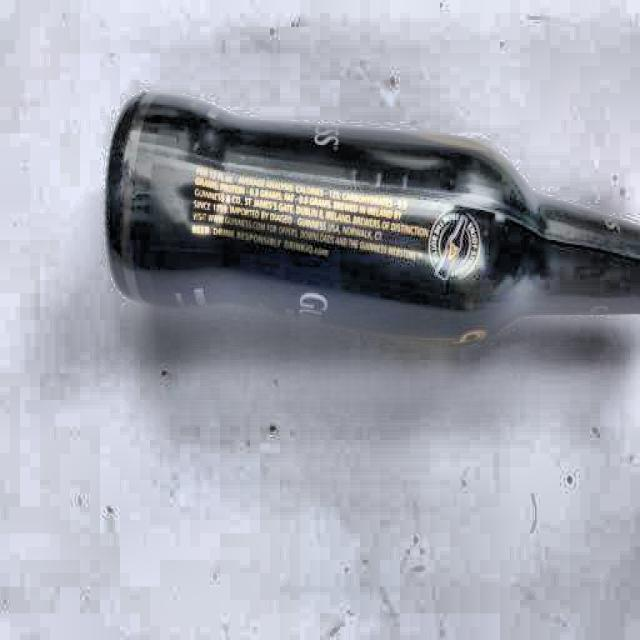glass: (103, 85, 640, 355)
